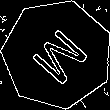M_SE: (23, 20, 92, 88)
